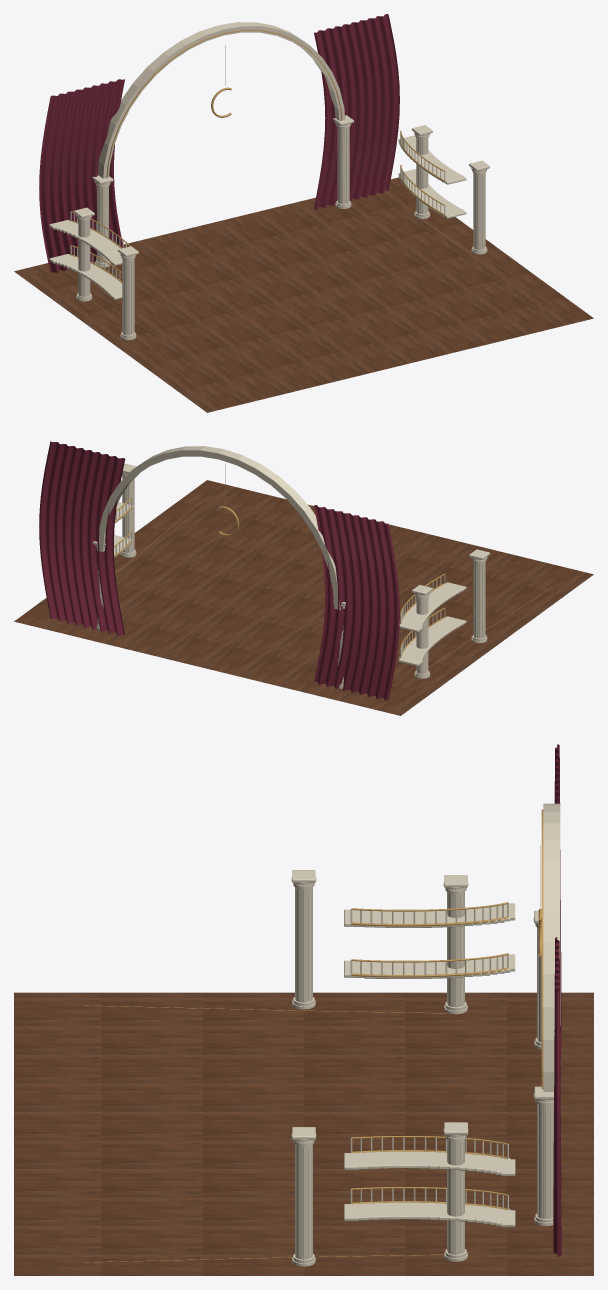
File: world40-moon-theatre-v1.glb
The picture shows the model from 3 angles, top to bottom: view 1: azimuth 30°, elevation 25°; view 2: azimuth 150°, elevation 25°; view 3: azimuth 270°, elevation 25°; orthographic projection. The views are drawn at different scales.
Visible parts, largest first — view 1: Moon theatre - Theatre walnut floor, Moon theatre - Burgundy folded velvet, Moon theatre - Theatre ivory plaster, Moon theatre - Theatre aged brass; view 2: Moon theatre - Theatre walnut floor, Moon theatre - Burgundy folded velvet, Moon theatre - Theatre ivory plaster, Moon theatre - Theatre aged brass; view 3: Moon theatre - Theatre walnut floor, Moon theatre - Theatre ivory plaster, Moon theatre - Theatre aged brass, Moon theatre - Burgundy folded velvet.
Part boxes in pixels (x1,y1,x2,y2): Moon theatre - Theatre walnut floor: [14, 177, 593, 412]; Moon theatre - Burgundy folded velvet: [39, 14, 399, 272]; Moon theatre - Theatre ivory plaster: [49, 22, 489, 340]; Moon theatre - Theatre aged brass: [70, 30, 552, 390]; Moon theatre - Theatre walnut floor: [14, 480, 593, 715]; Moon theatre - Burgundy folded velvet: [39, 441, 399, 700]; Moon theatre - Theatre ivory plaster: [92, 446, 489, 688]; Moon theatre - Theatre aged brass: [114, 463, 552, 667]; Moon theatre - Theatre walnut floor: [14, 992, 593, 1275]; Moon theatre - Theatre ivory plaster: [291, 803, 560, 1266]; Moon theatre - Theatre aged brass: [84, 809, 543, 1262]; Moon theatre - Burgundy folded velvet: [553, 744, 561, 1256].
Size of the model in its own units: 119 by 60.94 by 103.
4 materials, 1 textured.
